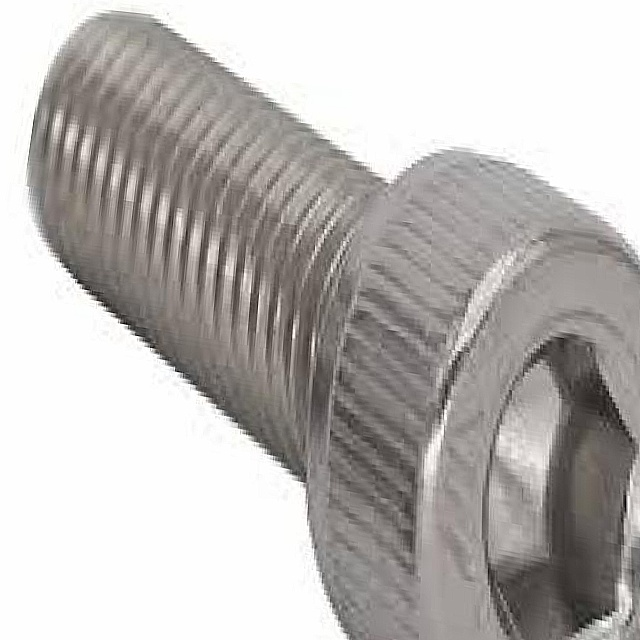allen: (410, 203, 640, 640)
